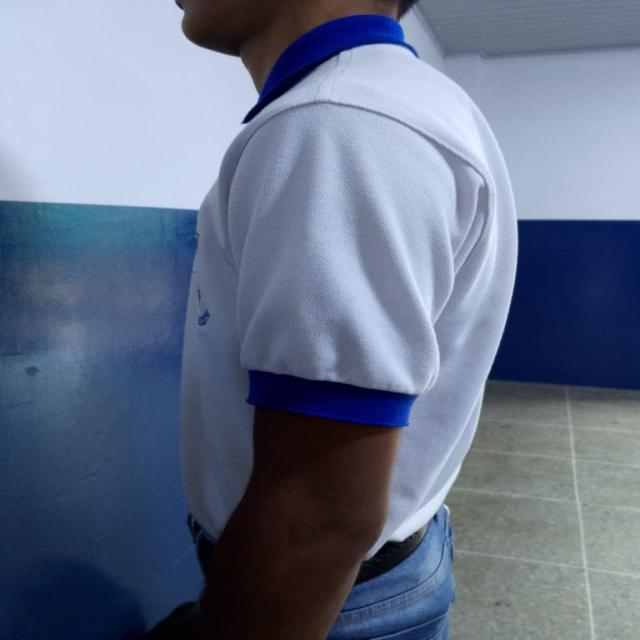uniforme_superior: (176, 14, 518, 564)
